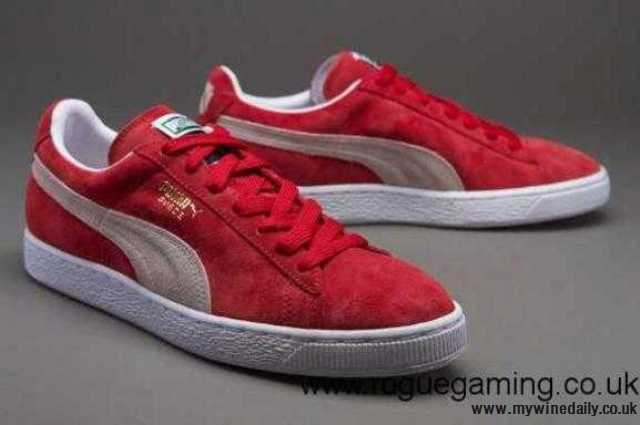Puma Suede Low Red: (16, 87, 484, 385), (175, 48, 625, 251)
